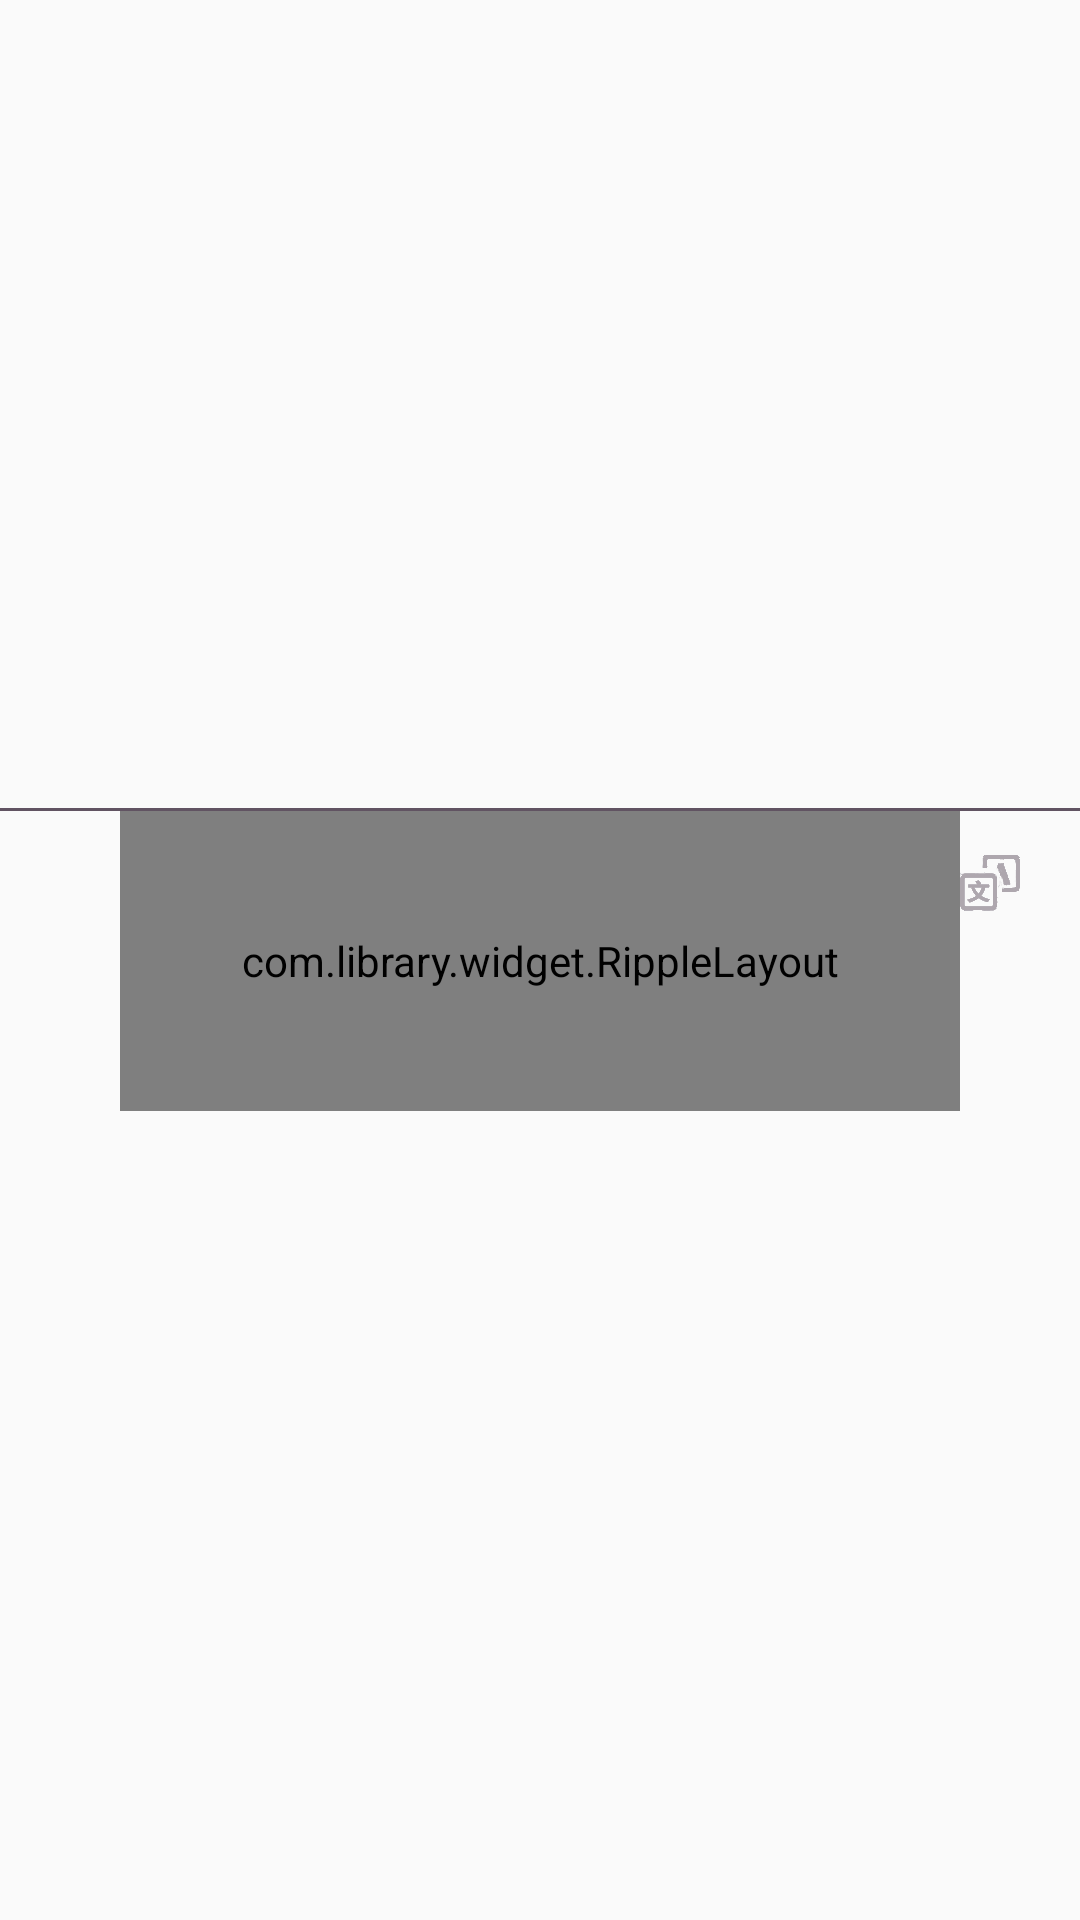

Icon bounding boxes for this 1080 × 1920 phone screenshot, format (x1, y1, x2, y2):
translation: (967, 855, 1020, 903)
